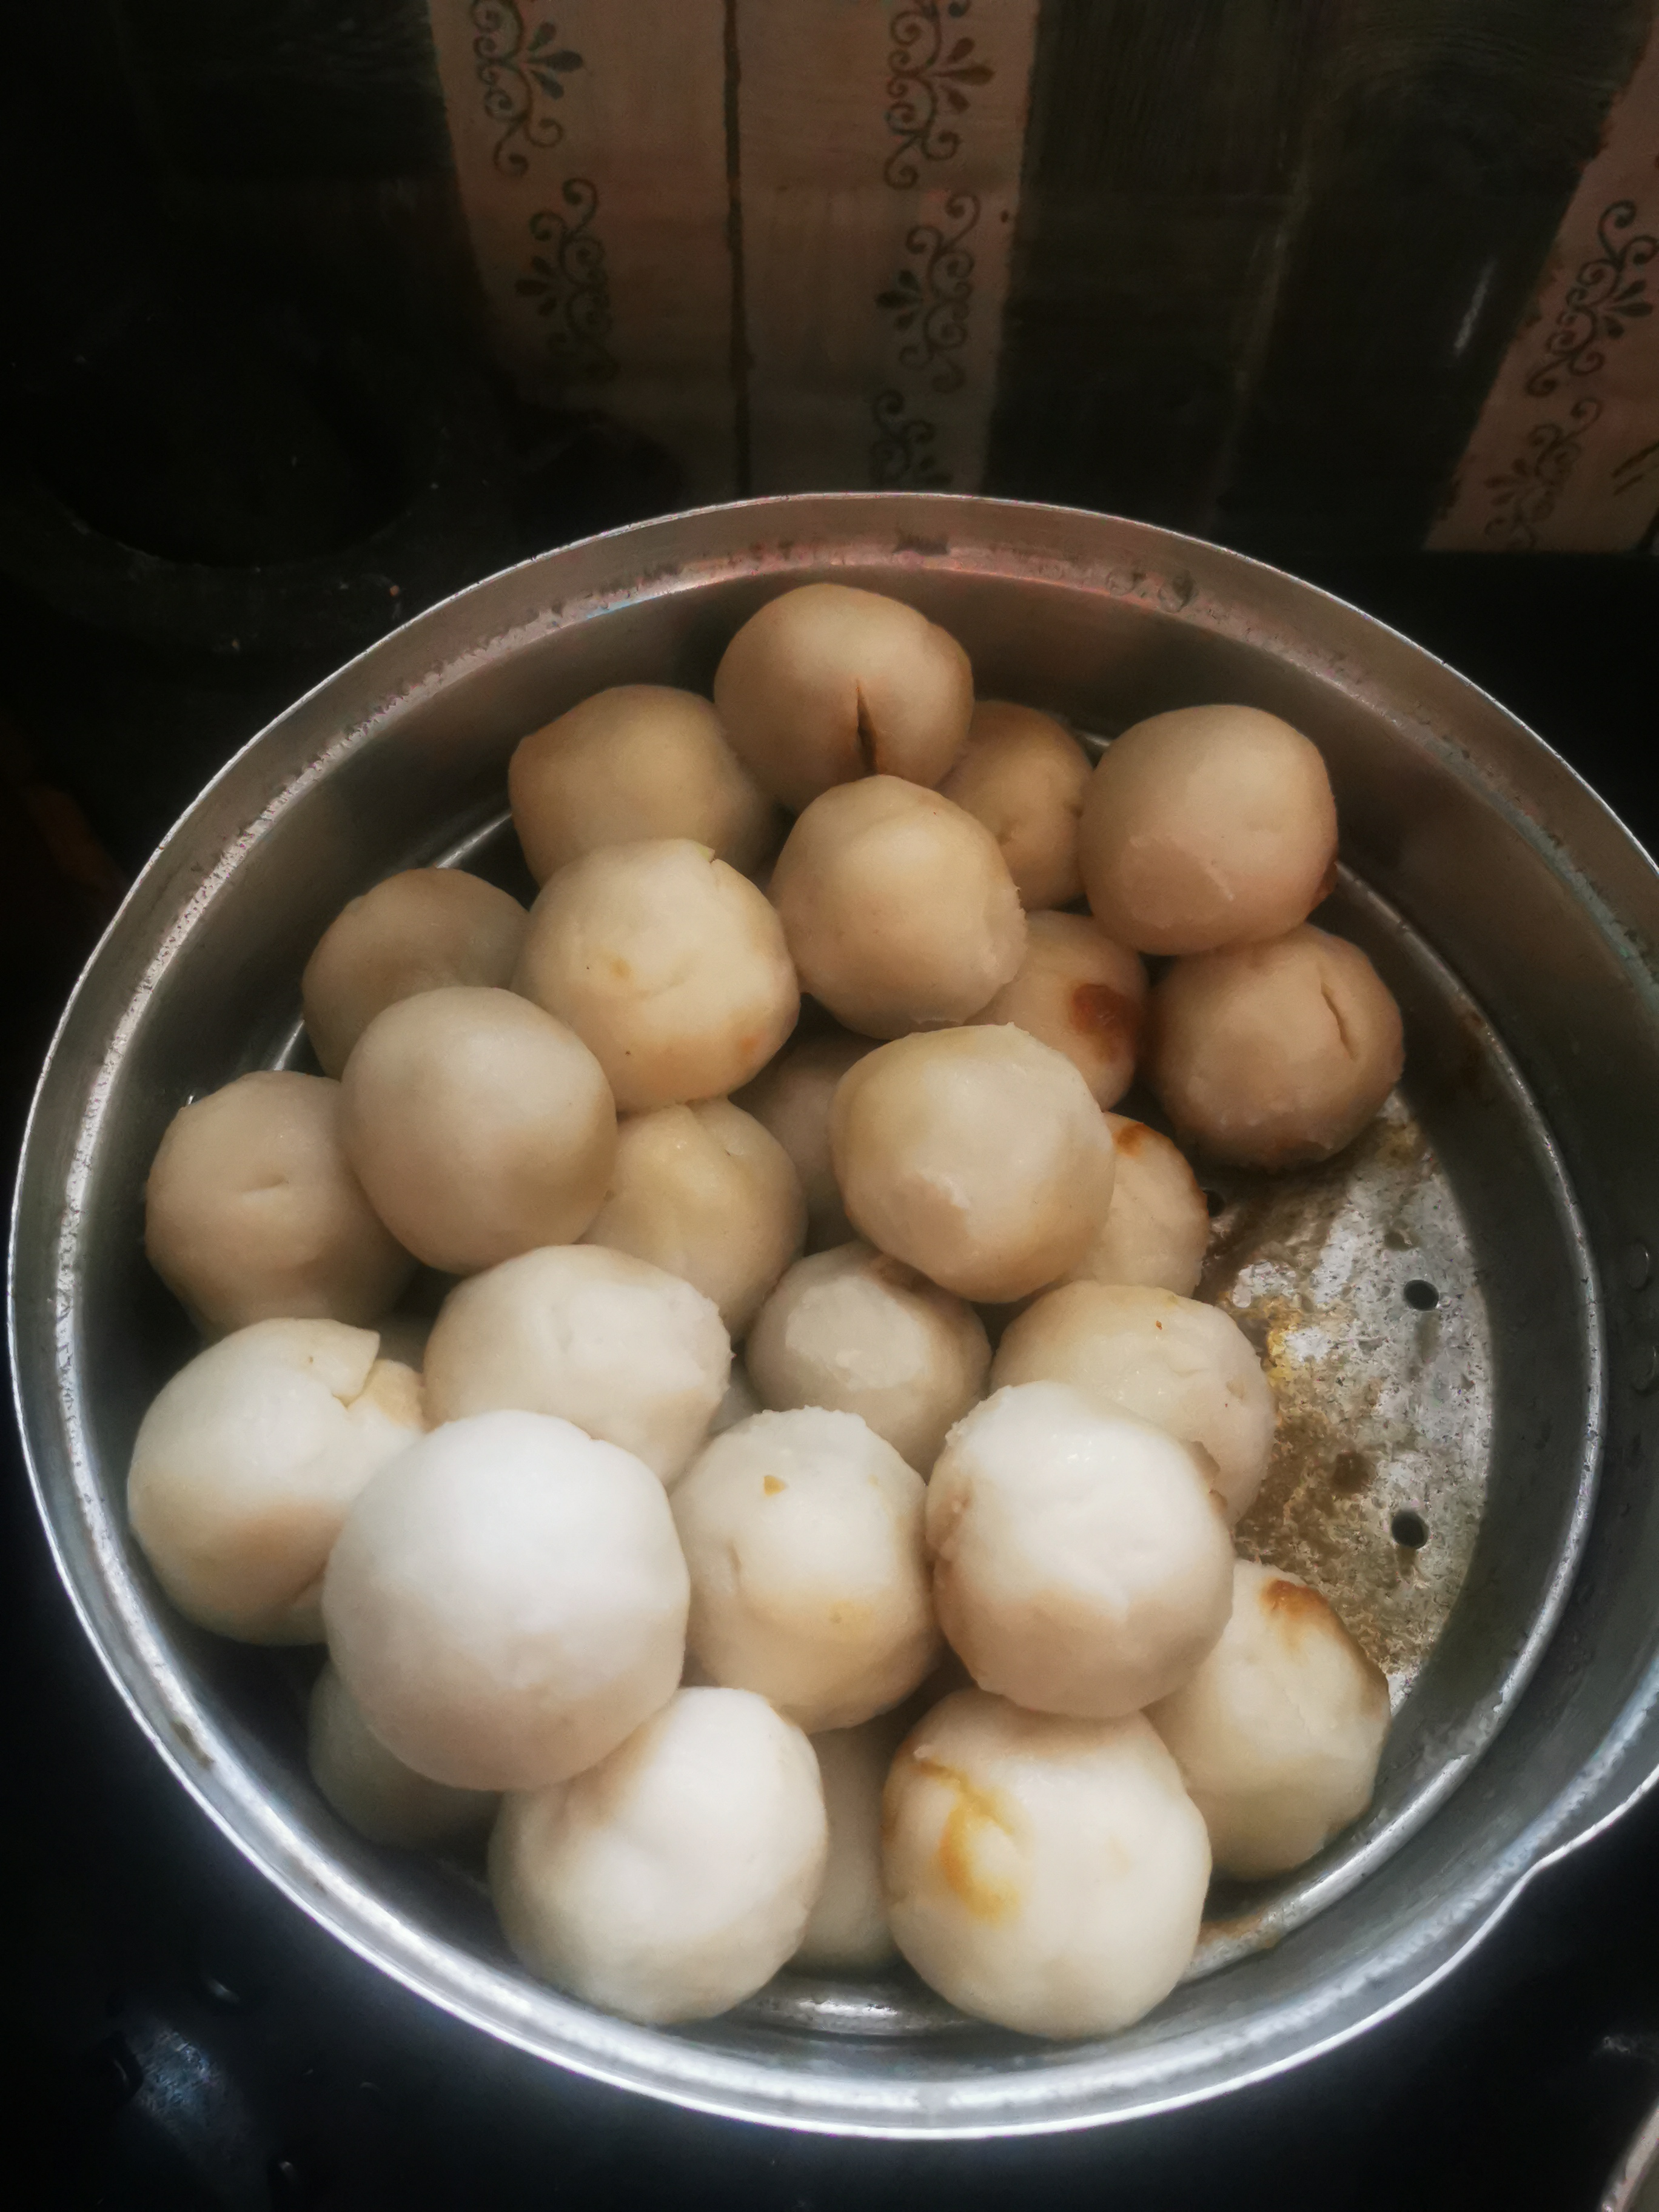food: (106, 540, 1527, 2060)
